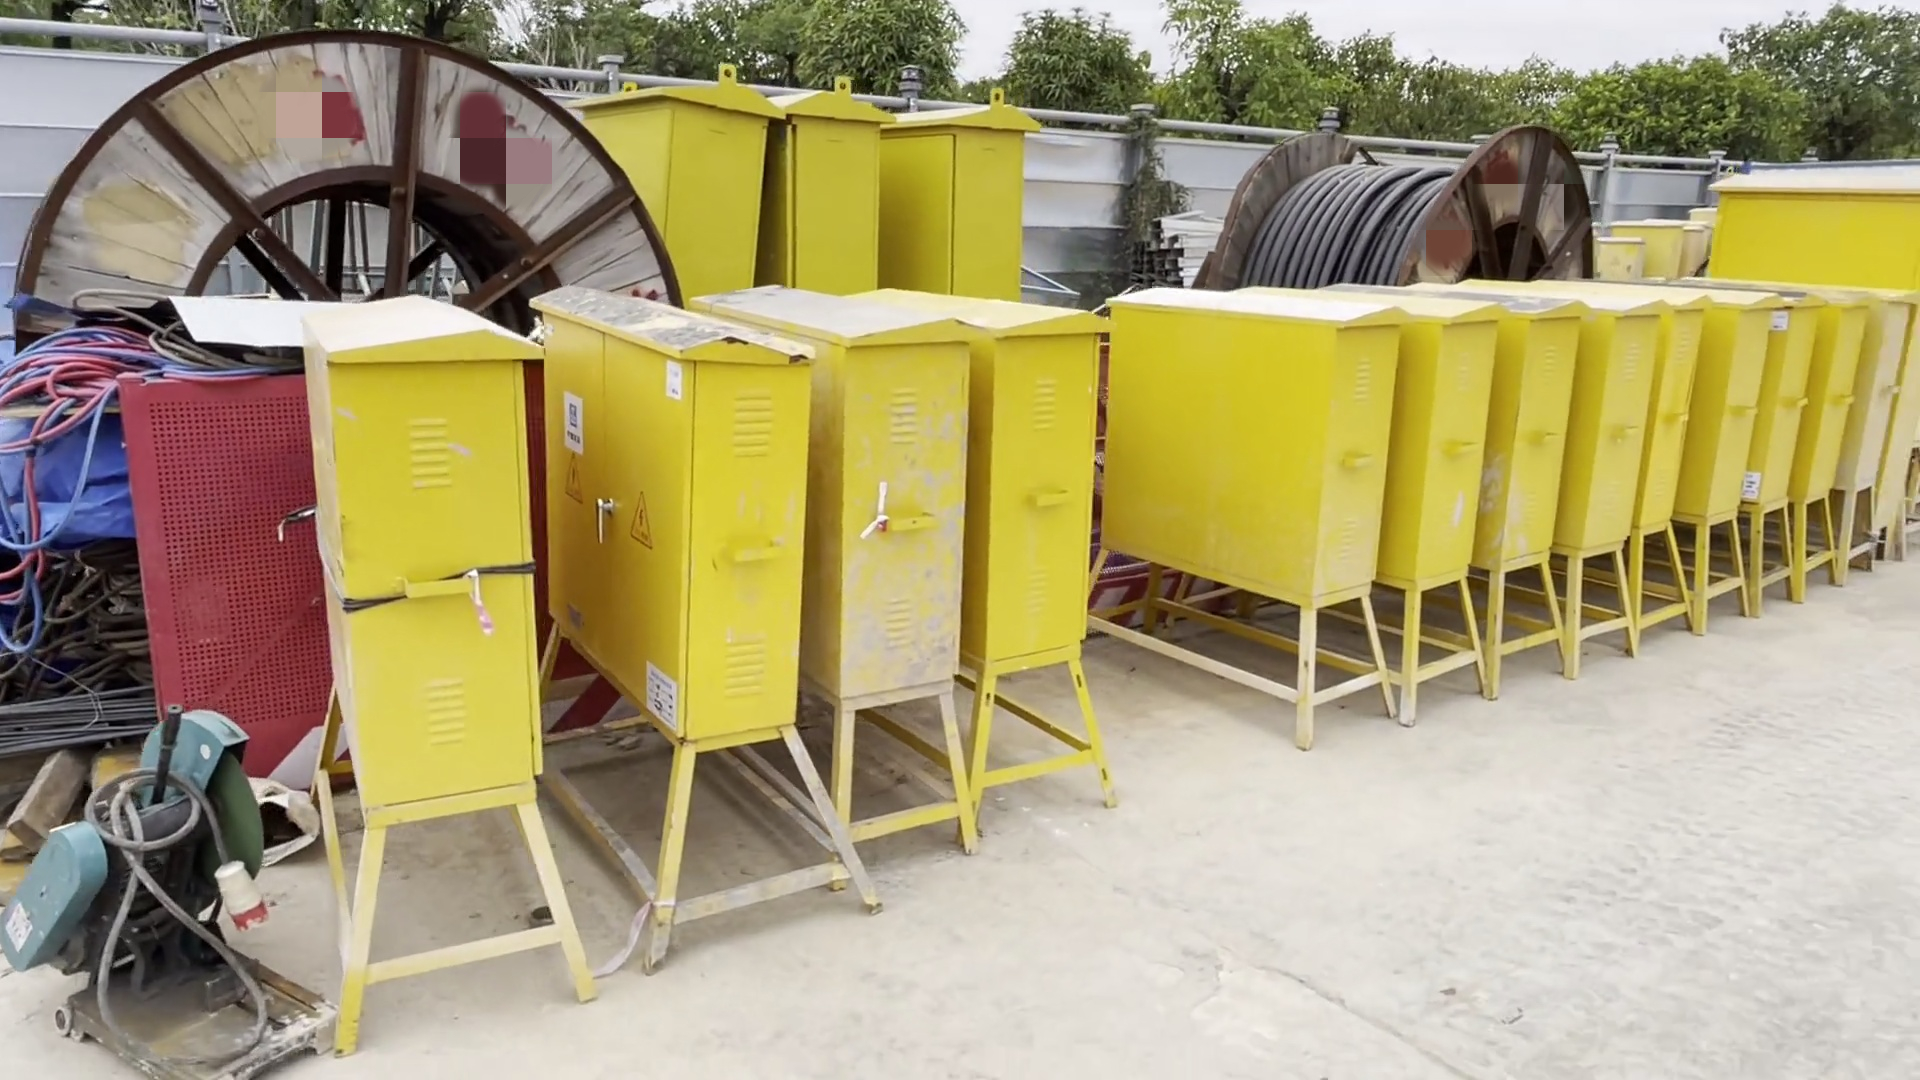ebox: (502, 268, 880, 930), (297, 272, 601, 1048), (716, 290, 978, 860), (1109, 285, 1404, 731), (934, 285, 1124, 819), (574, 73, 781, 302), (1382, 313, 1501, 704), (1487, 293, 1581, 698), (1572, 297, 1656, 683), (885, 90, 1035, 290), (775, 69, 899, 290), (1625, 298, 1701, 653), (1685, 295, 1764, 636), (1749, 293, 1820, 618), (1797, 291, 1869, 592), (1842, 295, 1912, 570)
